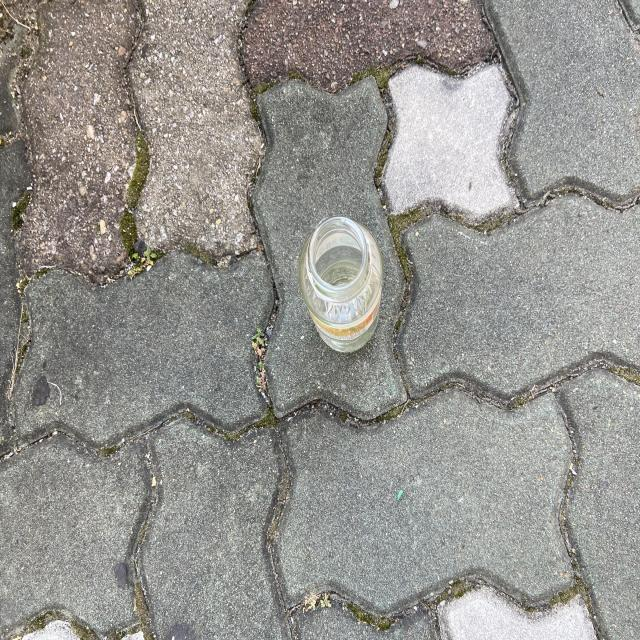glass: (299, 216, 383, 352)
